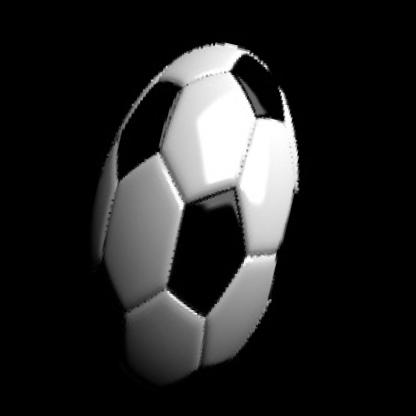ball: (42, 20, 340, 408)
